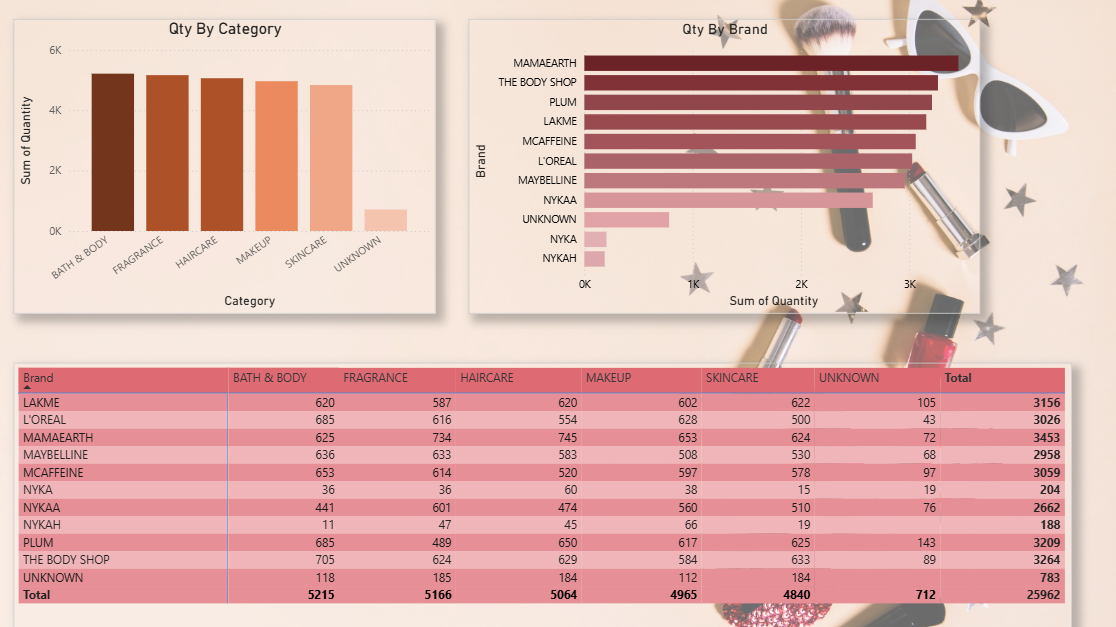

The dashboard page shown, as its layout file describes it:
{"tool":"powerbi","page":{"name":"Page 5","canvas":[1280,720],"ordinal":4},"visuals":[{"type":"columnChart","title":"Qty By Brand","fields":{"Y":["Sum(FactSales.Quantity)"],"Category":["FactSales.Category"]},"box":[9.6,24.7,603.8,370.5],"z":0},{"type":"clusteredBarChart","title":"Qty By Category","fields":{"Y":["Sum(FactSales.Quantity)"],"Category":["FactSales.Brand"]},"box":[640.8,24.7,610.6,370.5],"z":1000},{"type":"pivotTable","fields":{"Rows":["FactSales.Brand"],"Columns":["FactSales.Category"],"Values":["Sum(FactSales.Quantity)"]},"box":[9.4,456,1258.7,264.4],"z":2000}]}

Visuals, with their boxes in screenshot pixels (x1, y1, x2, y2), scaled from the page's 1280x720 canvas onto the 1116x627 screenshot:
"Qty By Brand" columnChart: (8, 22, 535, 344)
"Qty By Category" clusteredBarChart: (559, 22, 1091, 344)
pivotTable - FactSales.Brand x FactSales.Category: (8, 397, 1106, 626)
